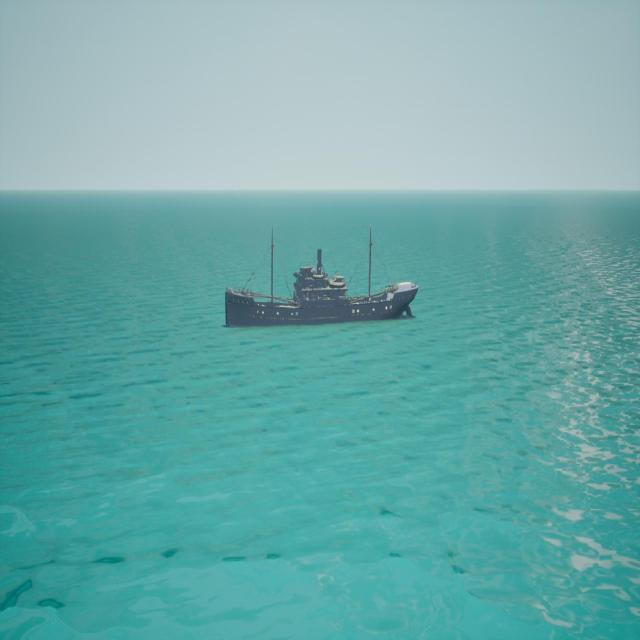fishing ship: (228, 229, 421, 329)
